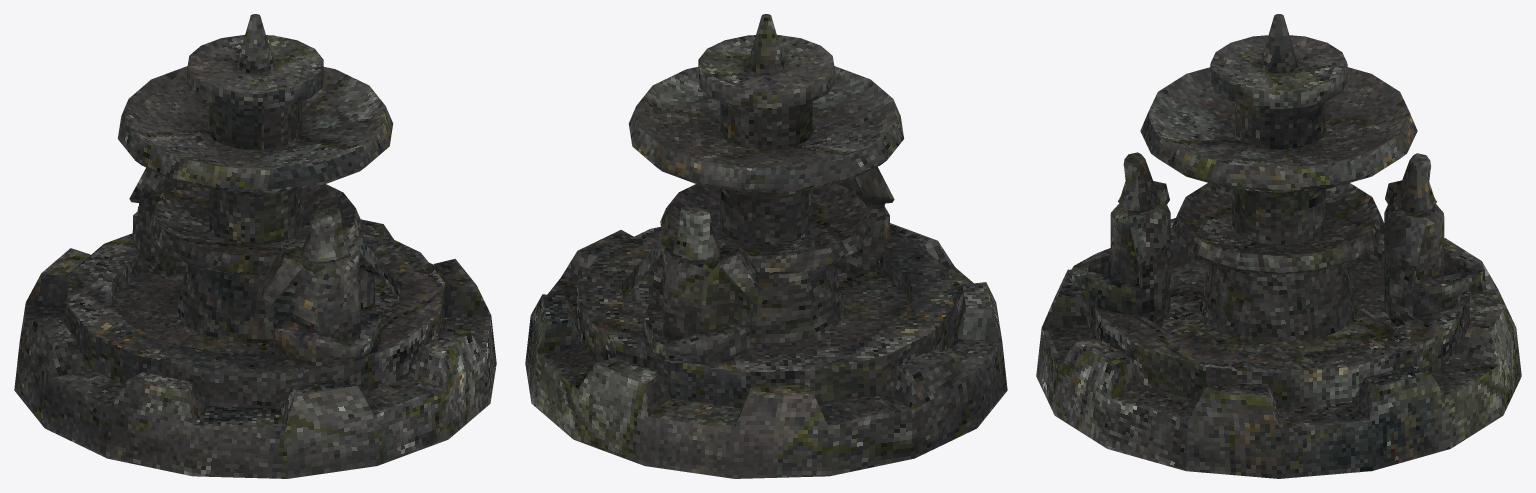
Rendered from Fountain_2.gltf.
The picture shows the model from 3 angles, left to right: view 1: azimuth 30°, elevation 25°; view 2: azimuth 150°, elevation 25°; view 3: azimuth 270°, elevation 25°; orthographic projection.
Parts seen in each view (by area): view 1: Fountain_2; view 2: Fountain_2; view 3: Fountain_2.
Boxes of the visible parts, x1,y1,x2,y2 form: Fountain_2: (14, 14, 496, 478); Fountain_2: (525, 14, 1007, 478); Fountain_2: (1036, 14, 1521, 478).
Size of the model in its own units: 7.25 by 5.94 by 7.25.
1 material, 1 textured.
